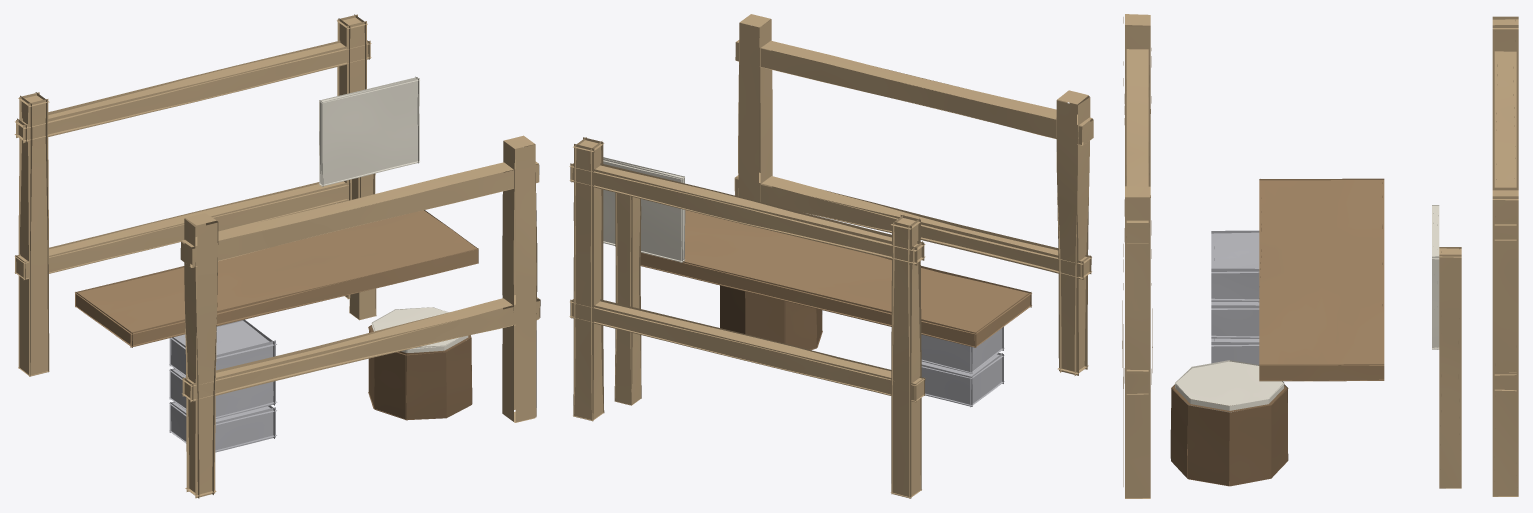
File: construction.glb
3 renders of one model, left to right at view 1: azimuth 30°, elevation 25°; view 2: azimuth 150°, elevation 25°; view 3: azimuth 270°, elevation 25°, orthographic. The views are drawn at different scales.
Parts seen in each view (by area): view 1: ScaffoldPost-0.55-0.5; view 2: ScaffoldPost-0.55-0.5; view 3: ScaffoldPost-0.55-0.5.
Boxes of the visible parts, x1,y1,x2,y2 form: ScaffoldPost-0.55-0.5: [14, 14, 540, 498]; ScaffoldPost-0.55-0.5: [569, 14, 1093, 498]; ScaffoldPost-0.55-0.5: [1122, 14, 1518, 498].
Bounding box in the file's own units: 1.27 × 0.9092 × 1.08.
